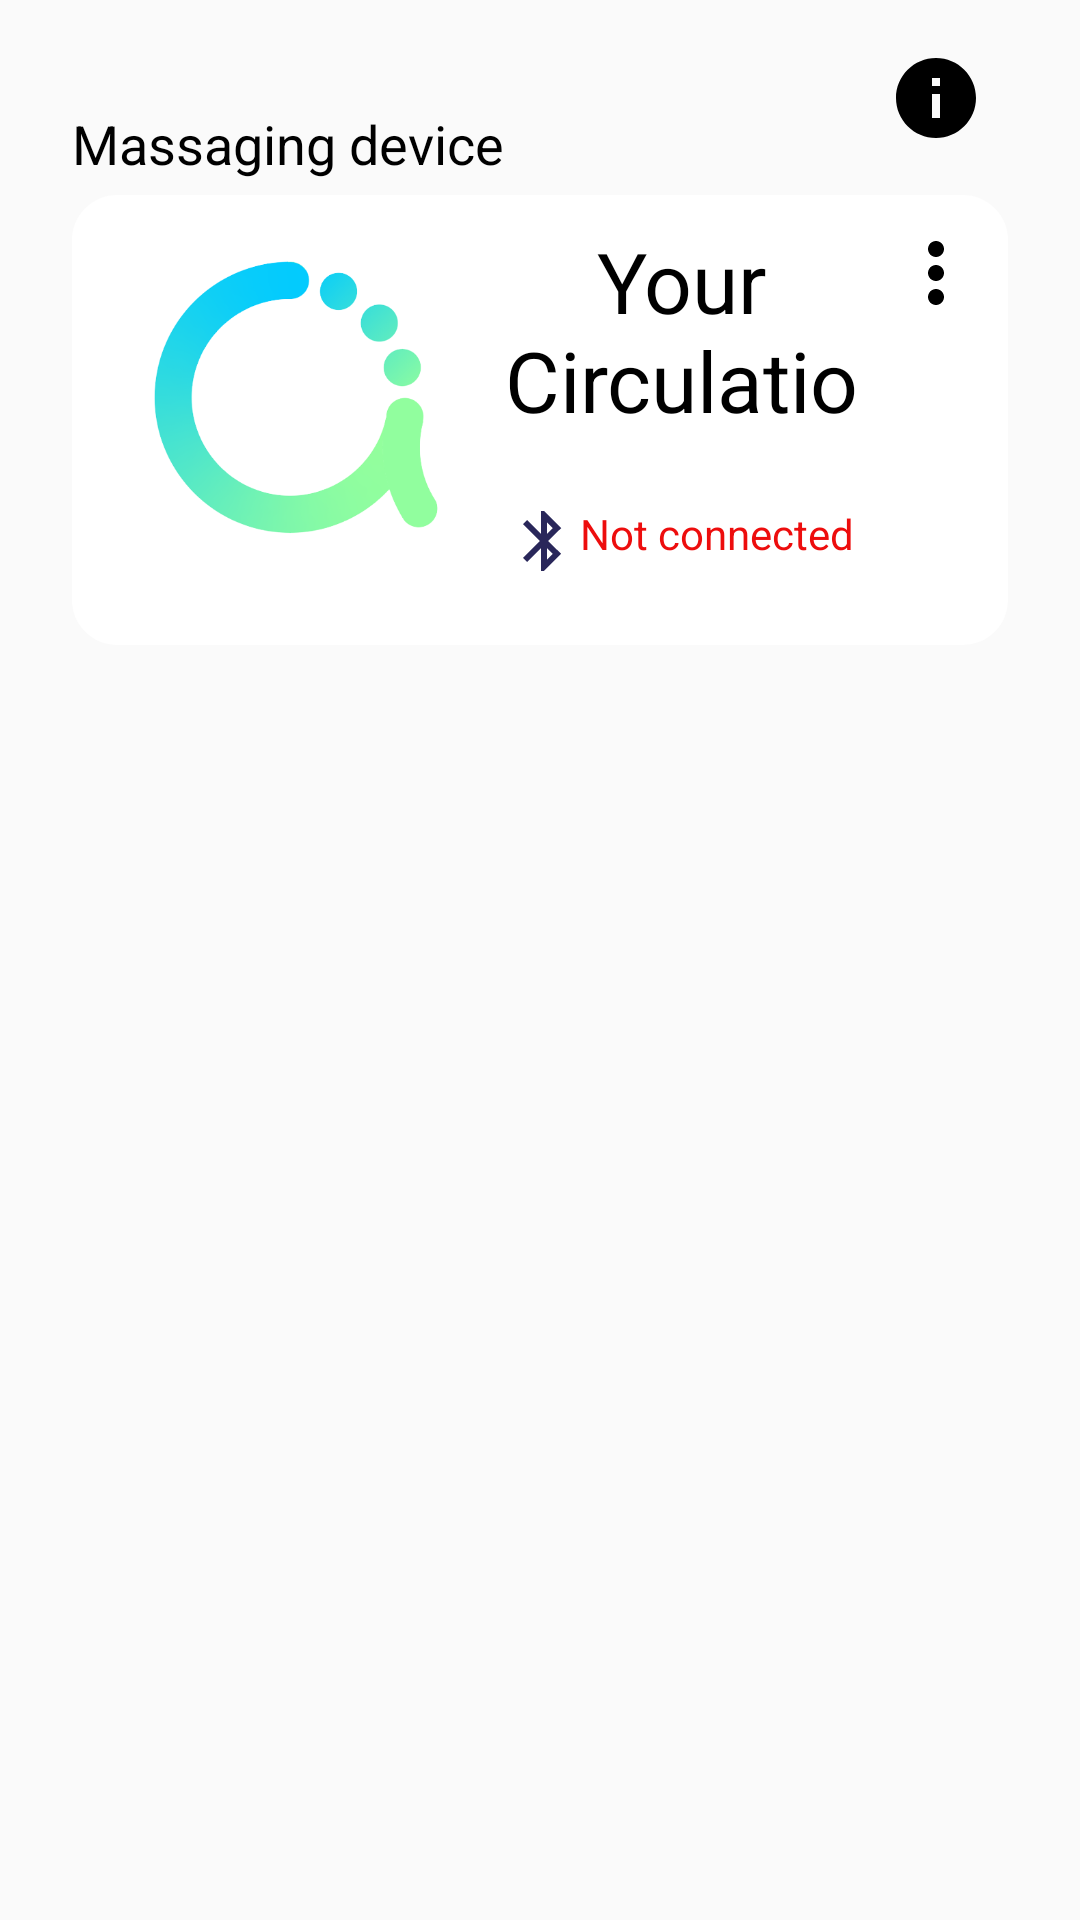

Point at icon controls on the screen. Image size 1080 x 1920, points as [x,y].
info: [936,98]
more vert: [936,273]
